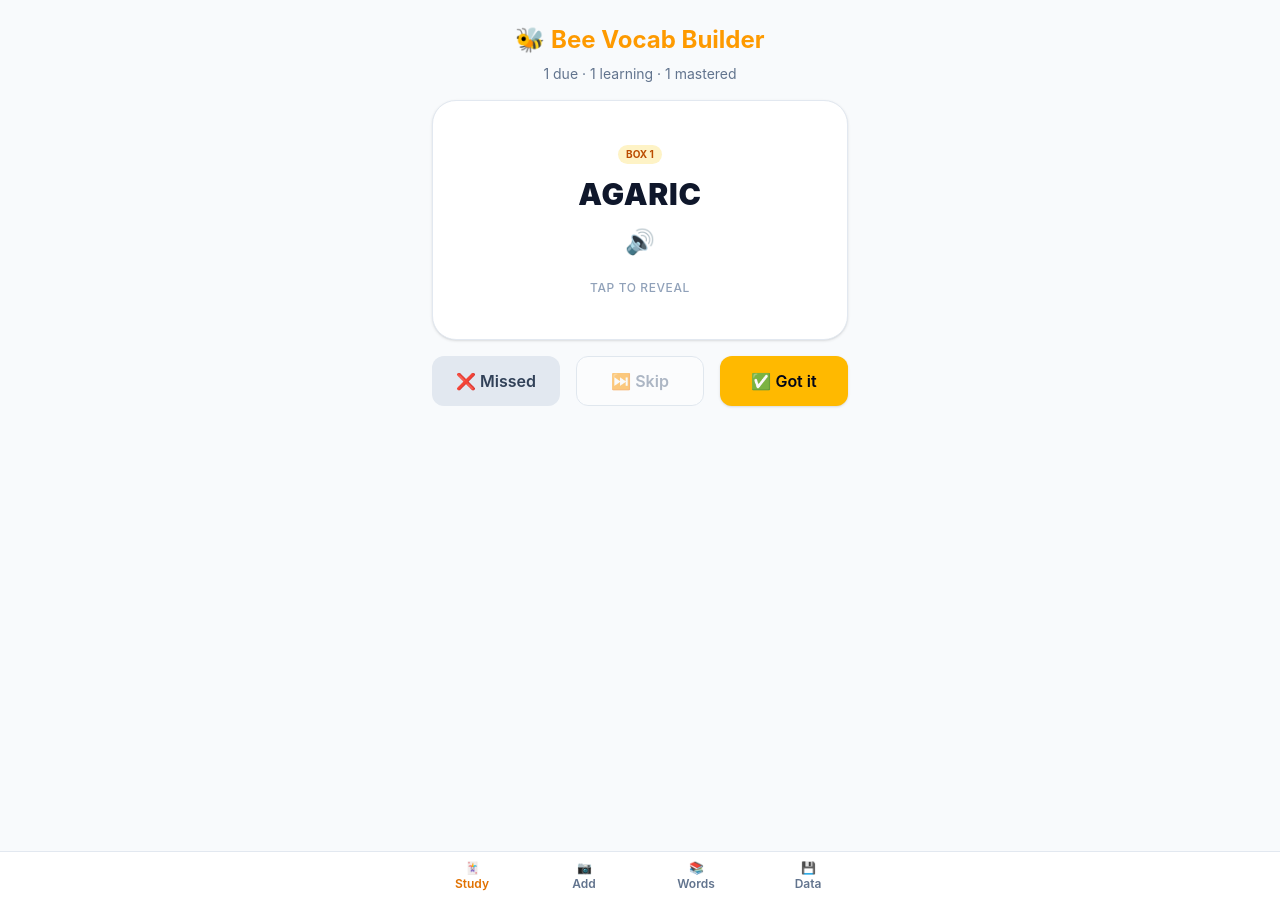
Test: searches the word list
Click the button "📚 Words": (696, 876) [640,852,752,899]
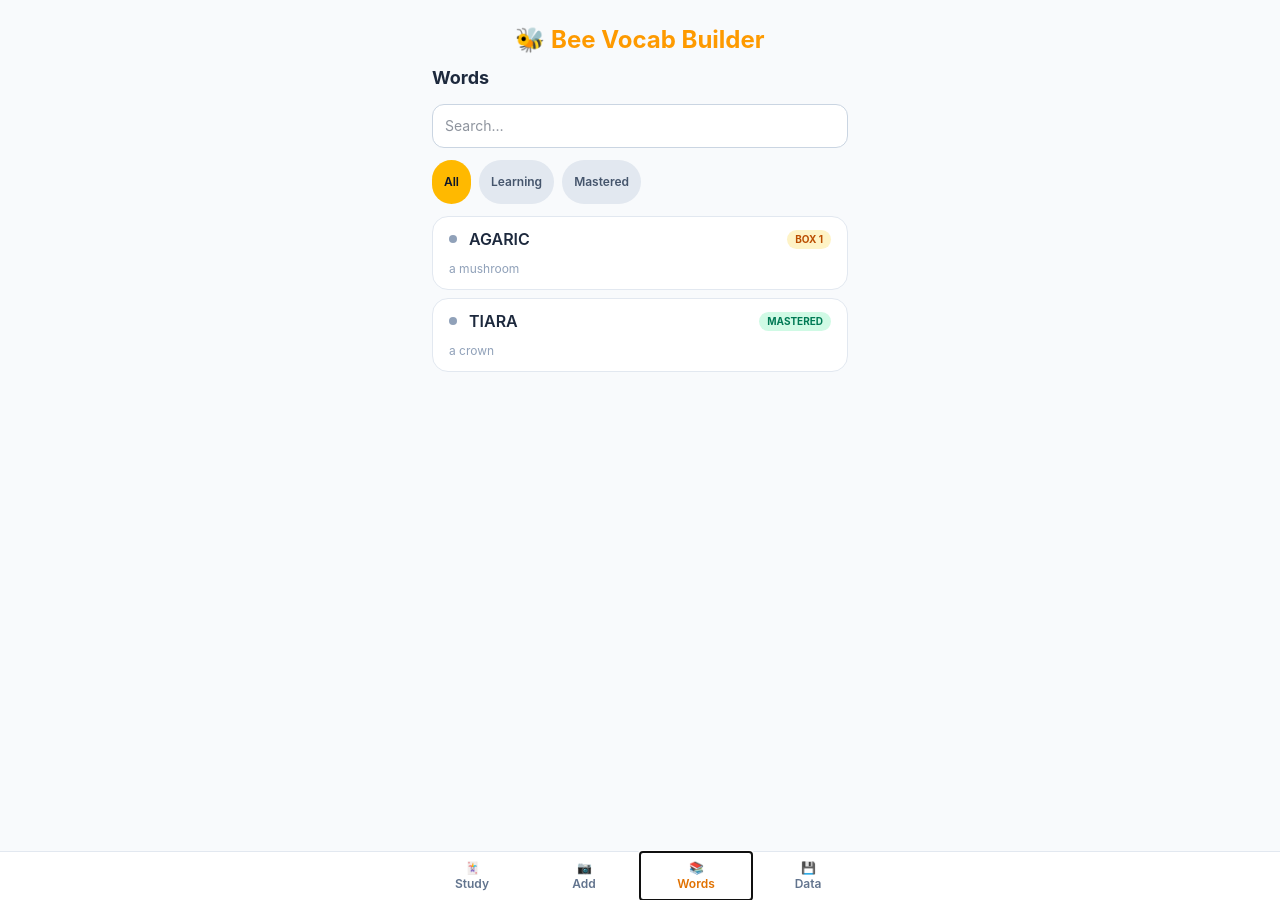
Check: the text "AGARIC" is shown, box [469,229,530,249]
In the search field: (640, 126) [432,104,848,148], type "TIA"
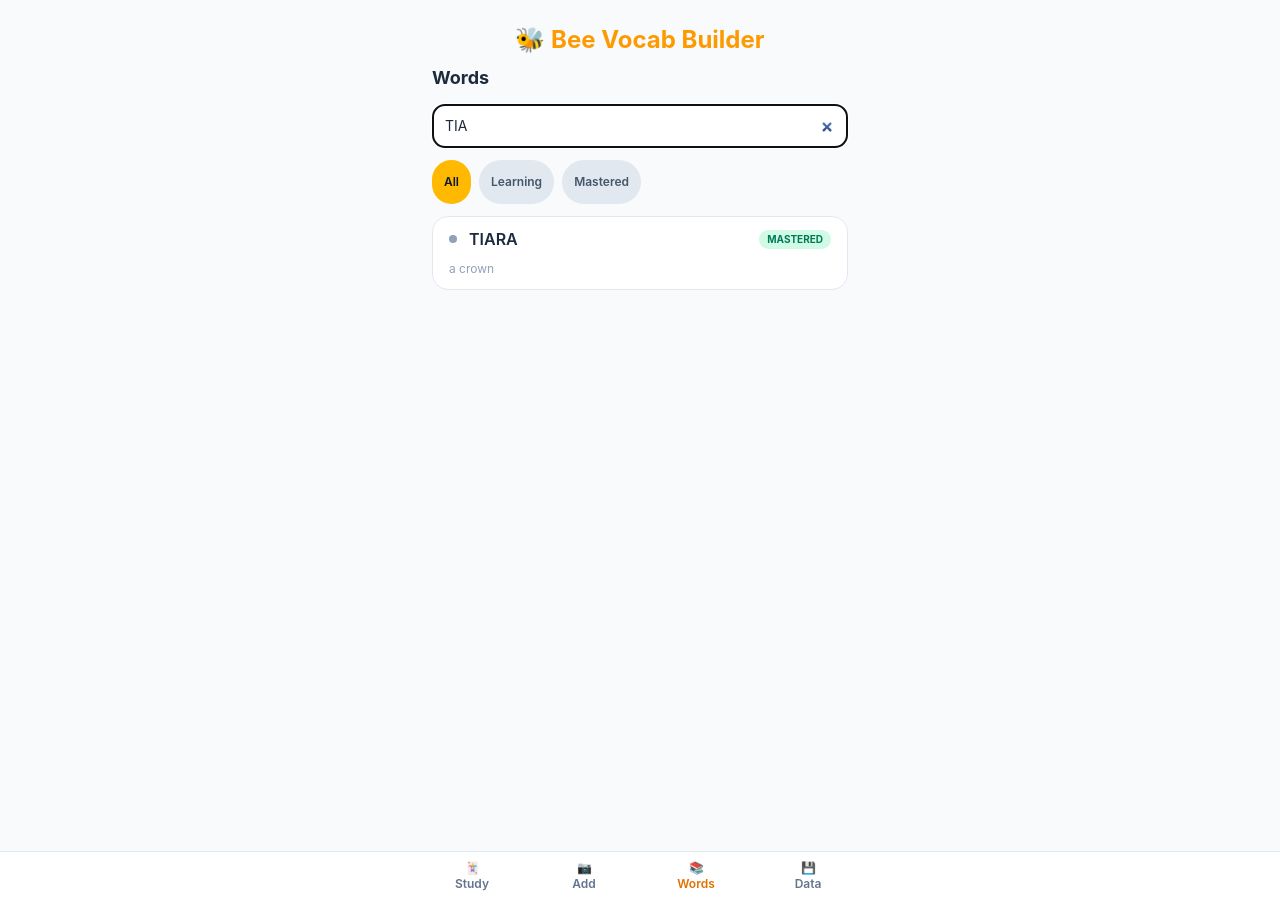
Check: the text "TIARA" is shown, box [469,229,518,249]
Check: the button "AGARIC" is gone
